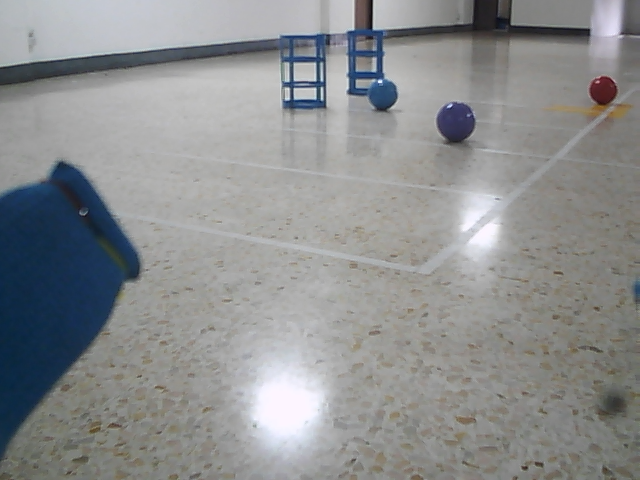Blue ball: (368, 78, 398, 112)
Cyro: (278, 32, 331, 111), (345, 29, 385, 97)
Purple ball: (435, 101, 476, 144)
Red ball: (588, 75, 618, 106)
